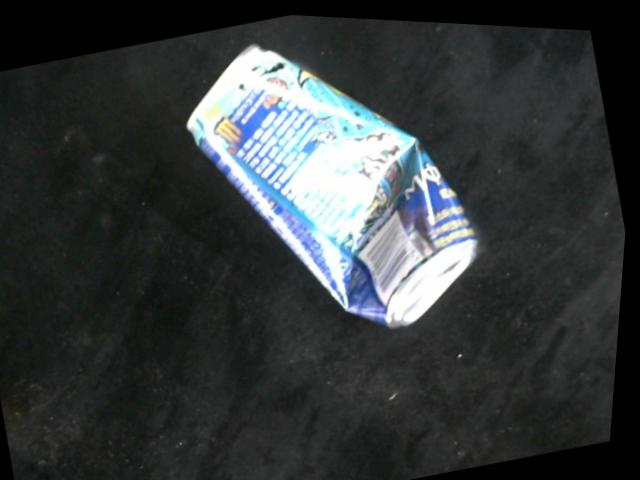can: (185, 40, 493, 326)
